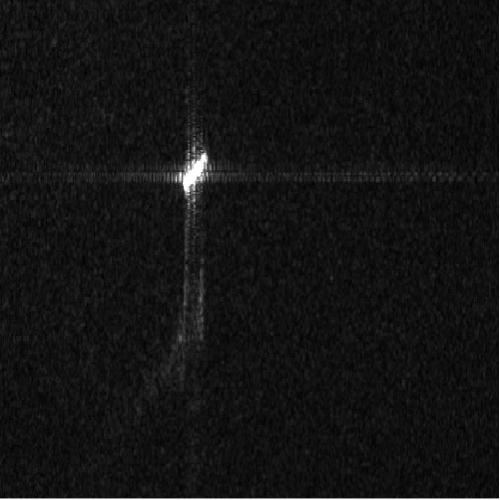ship: (180, 149, 209, 197)
